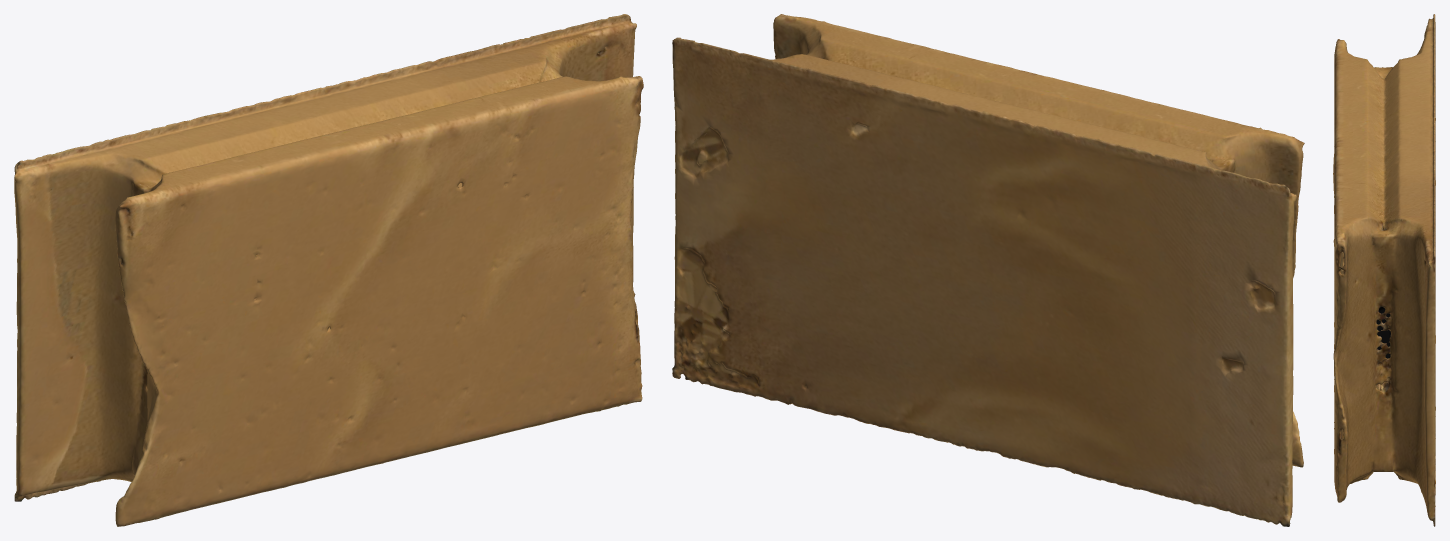
Rendered from desert-flat.glb.
3 views of the same model, side by side, from view 1: azimuth 30°, elevation 25°; view 2: azimuth 150°, elevation 25°; view 3: azimuth 270°, elevation 25° (orthographic). The views are drawn at different scales.
Parts seen in each view (by area): view 1: Mesh1.0; view 2: Mesh1.0; view 3: Mesh1.0.
Boxes of the visible parts, x1,y1,x2,y2 form: Mesh1.0: [14, 14, 643, 526]; Mesh1.0: [672, 14, 1304, 526]; Mesh1.0: [1333, 14, 1435, 526].
Size of the model in its own units: 1.91 by 1 by 0.3396.
1 material, 1 textured.
